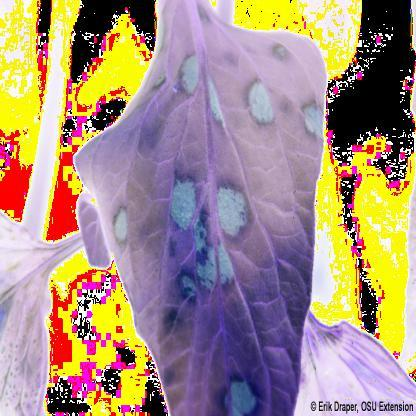Tomato mold leaf: (78, 13, 328, 412)
